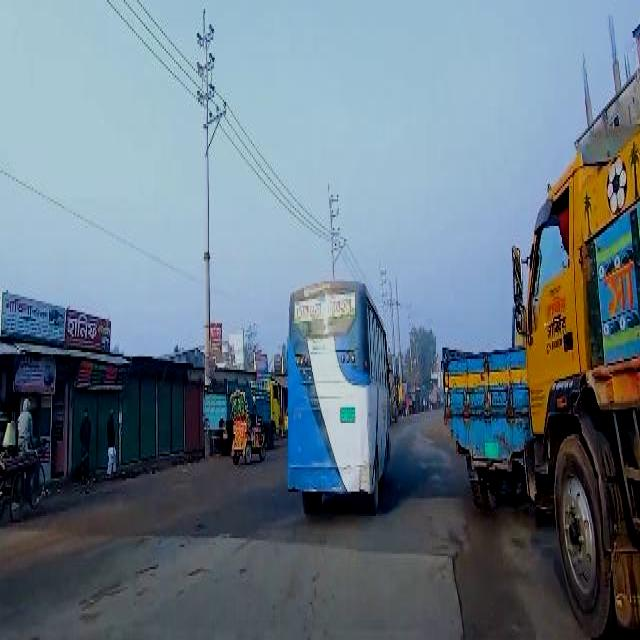BUS: (283, 278, 392, 508)
TRUCK: (515, 139, 639, 638), (443, 348, 535, 500)
